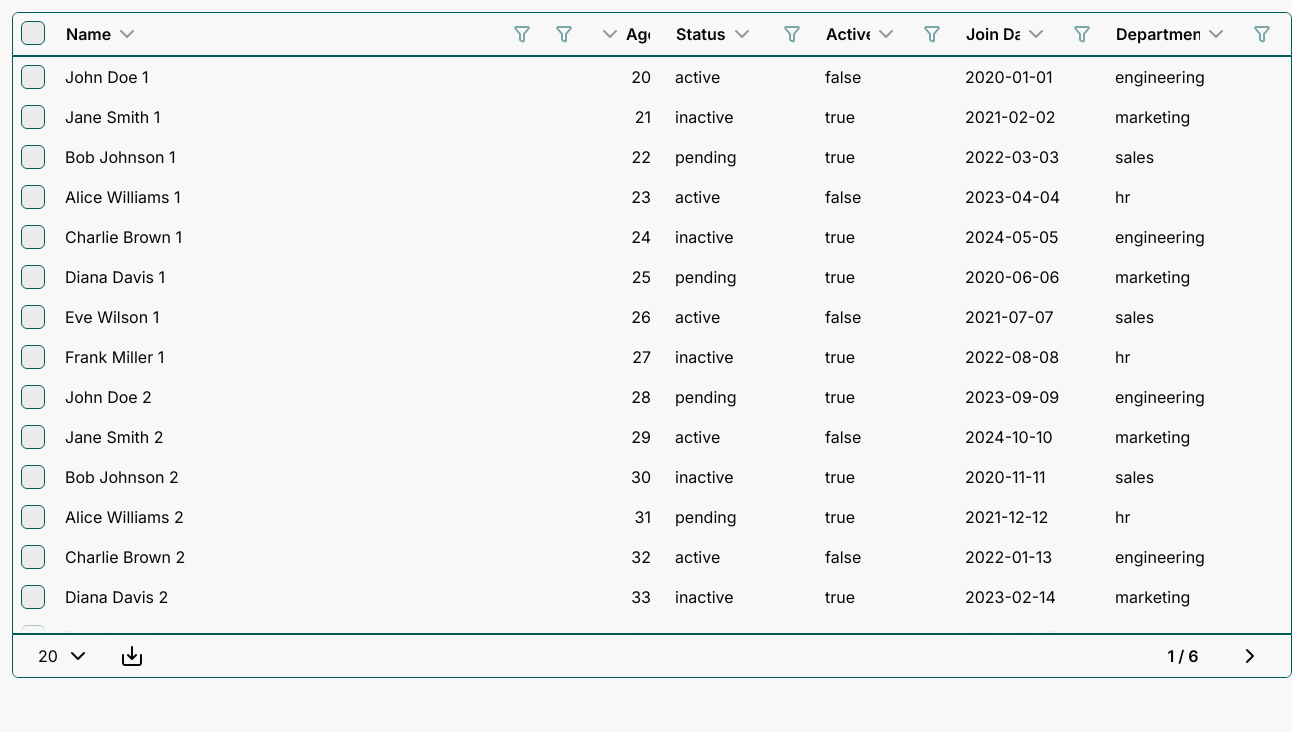
DataGrid › Interaction › selection count shows text after selecting a row
Click the element with class "RowInnerWrap" that starts with "John Doe 1".
click(648, 77)  # box [13, 57, 1283, 97]
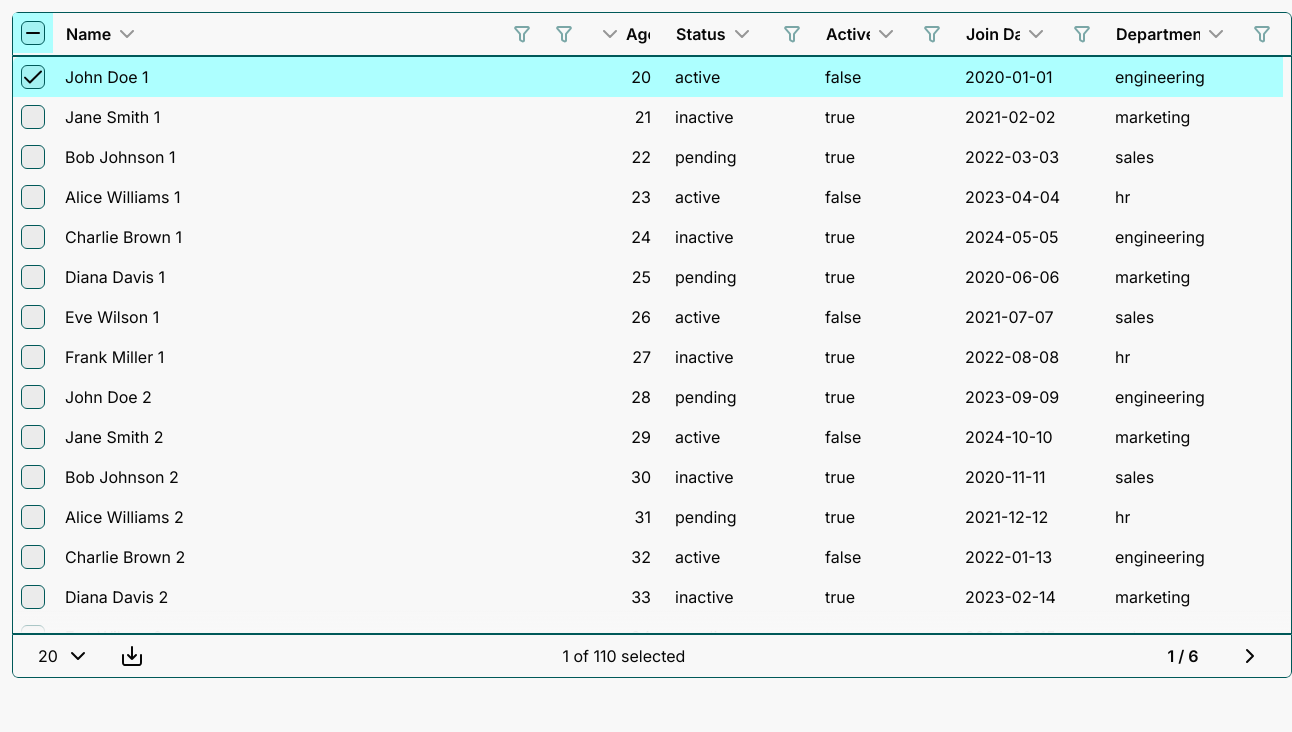
Result: the text with test id "GridSelectionCount" reads "1 of 110 selected" at [562, 646, 686, 666]
